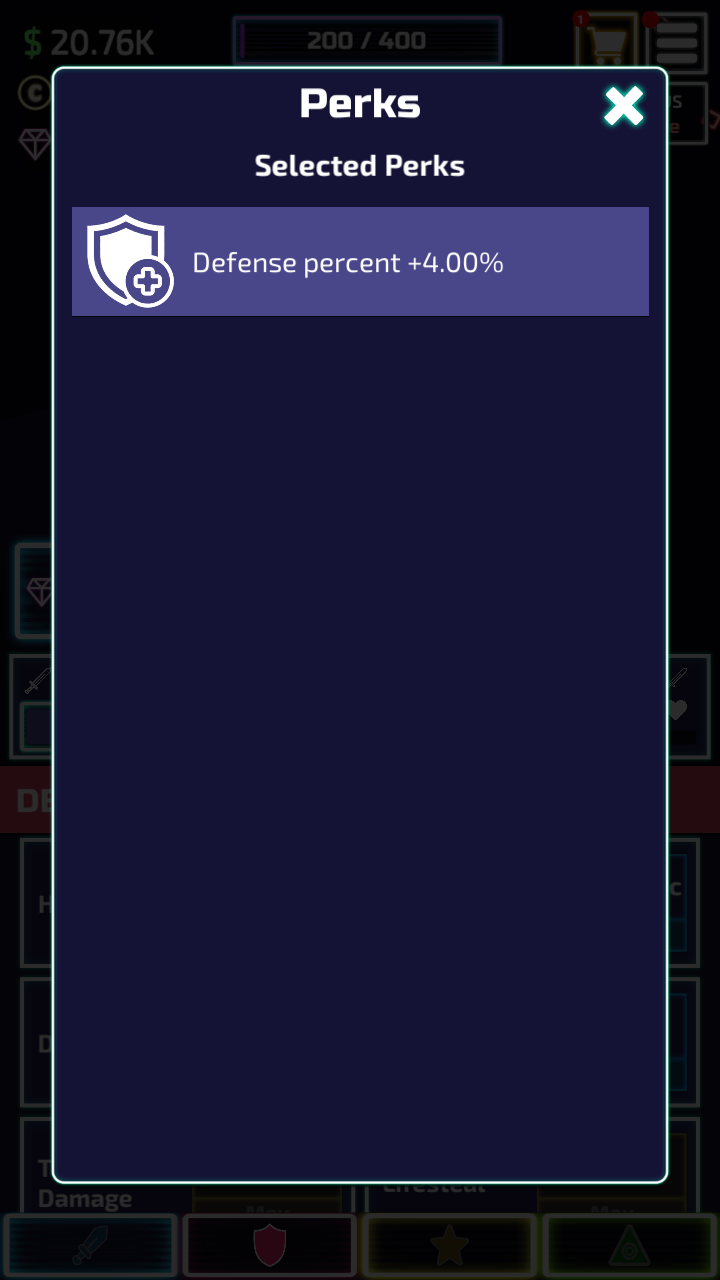B_Menu_Action_Required: (639, 9, 704, 65)
B_Menu_Closed: (571, 14, 706, 66)
